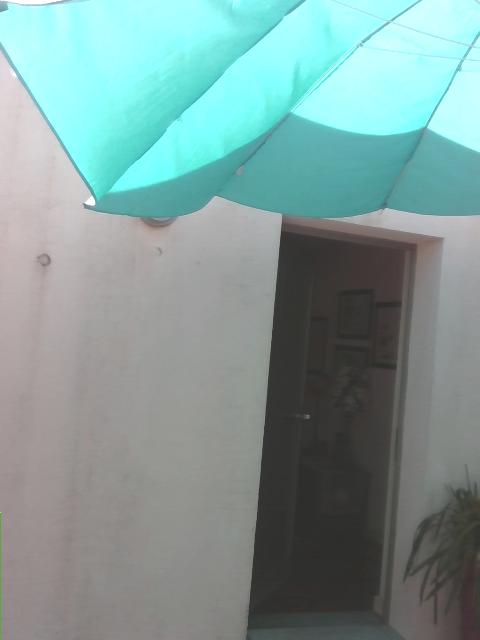semi_door: (246, 209, 419, 636)
